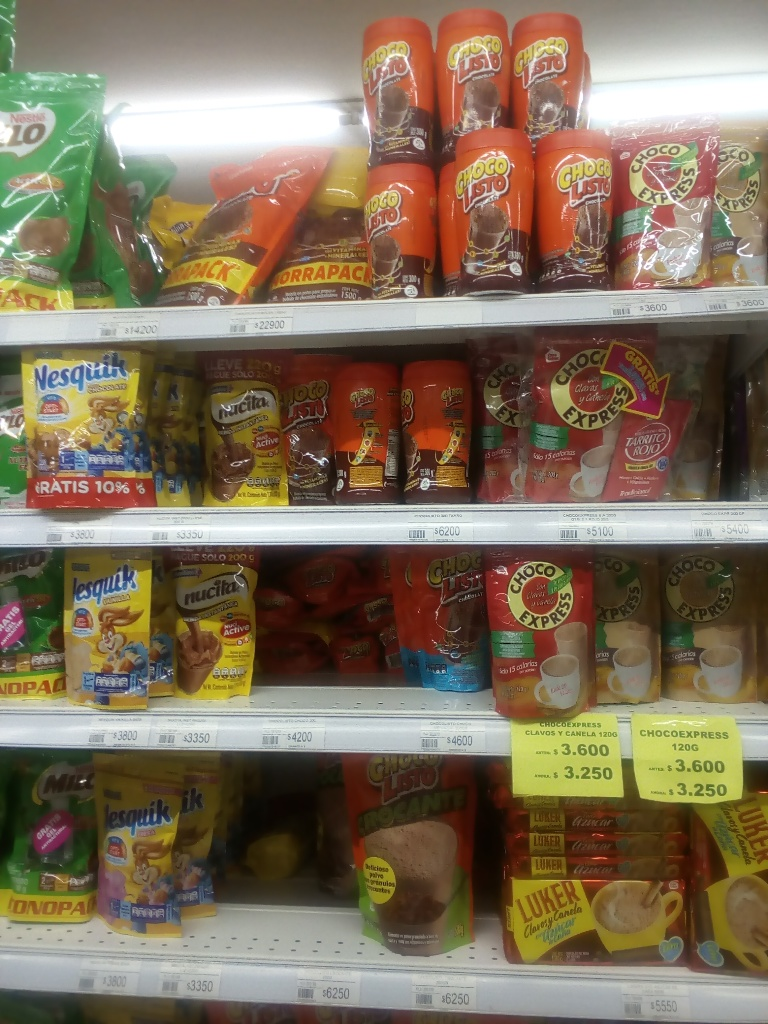COL0170102DYP50000: (330, 756, 485, 954)
COL0170103DYP1,500: (150, 133, 302, 311)
COL0170103TRR30000: (357, 1, 434, 145)
COL0170104DYP20000: (393, 548, 486, 699)
COL0170203DYP50000: (1, 75, 127, 329)
COL0170305DYP20000: (90, 752, 213, 937)
COL0170306DYP20000: (68, 552, 169, 710)
